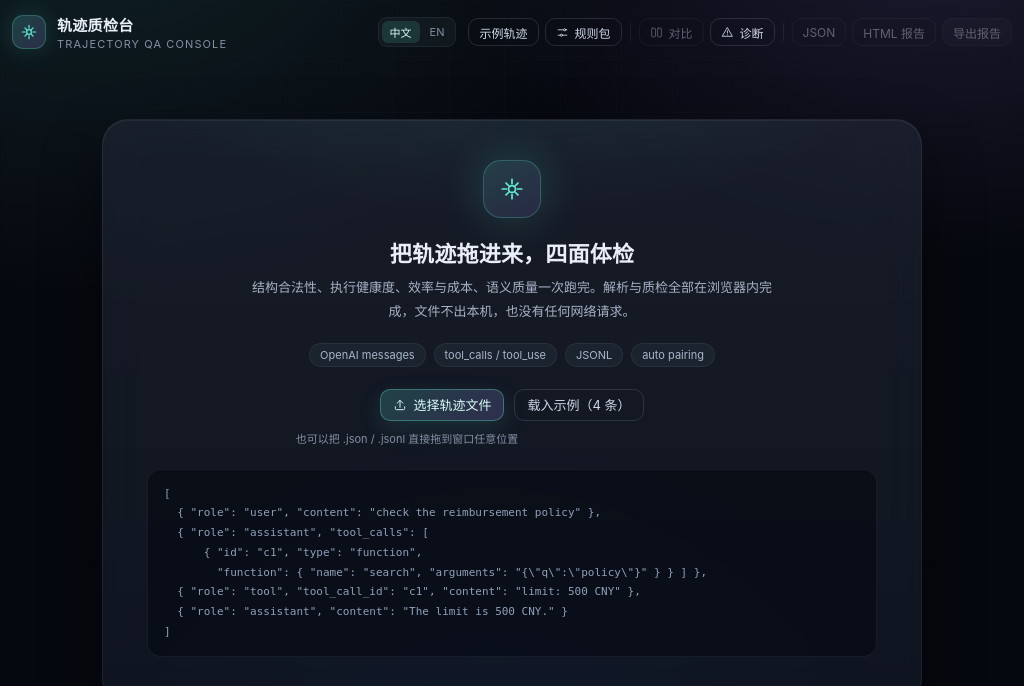
Test: App smoke › keeps compare disabled until two traces exist, then toggles the view
expect the button "对比" is disabled: met, box [638, 18, 704, 46]
Click the button "载入示例（4 条）" at (579, 405), box [514, 389, 644, 421]
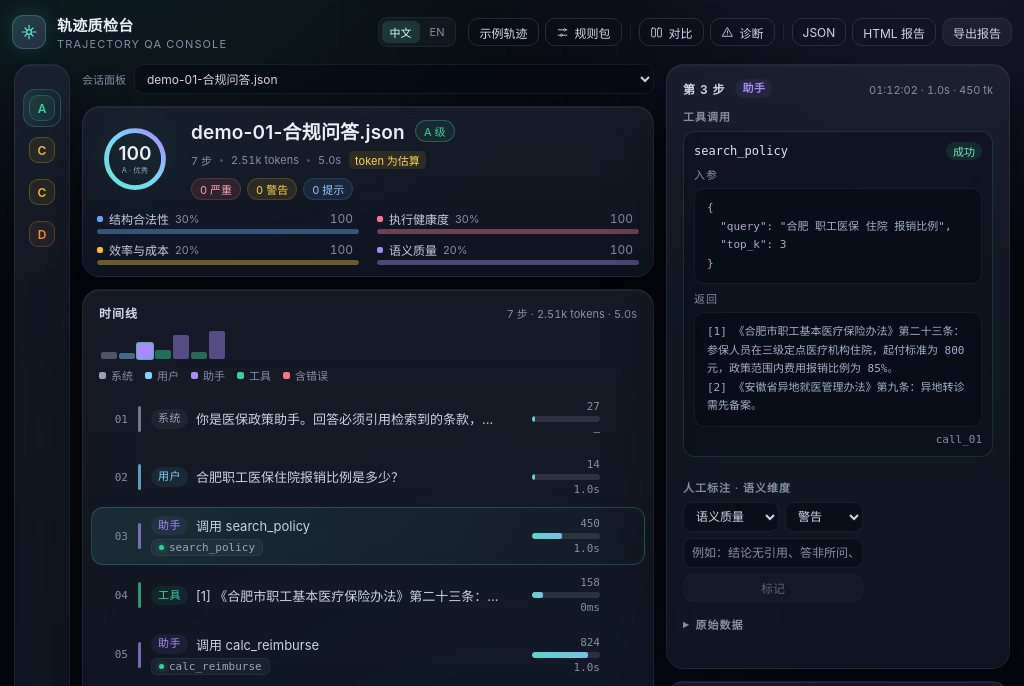
expect the text "时间线" is shown: met, box [99, 304, 138, 321]
expect the button "对比" is enabled: met
Click the button "对比" at (671, 32), box [638, 18, 704, 46]
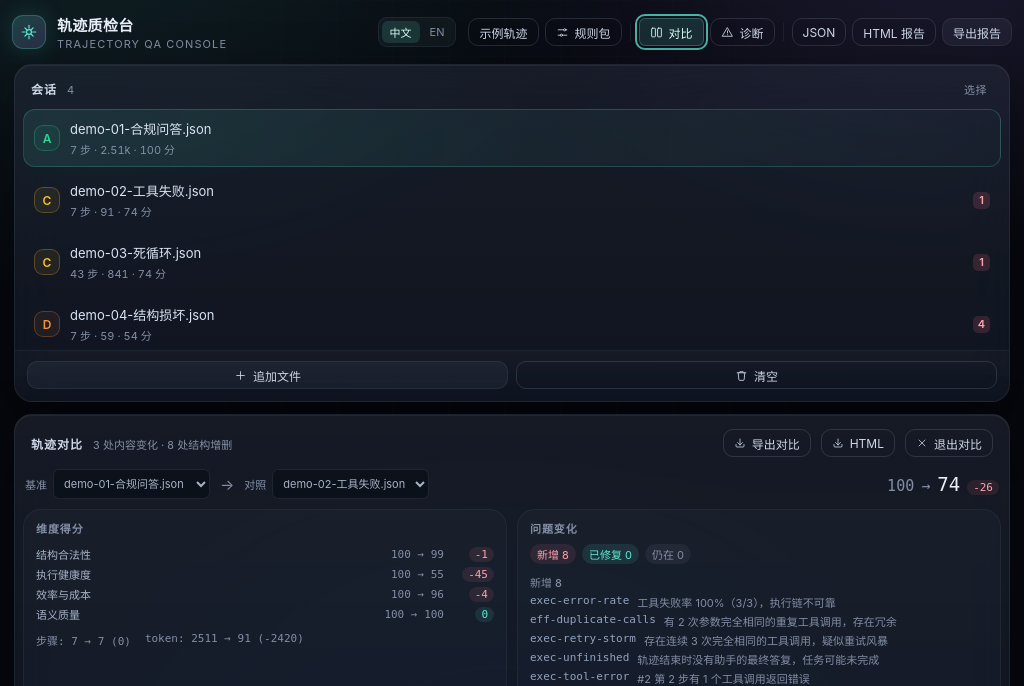
expect the text "轨迹对比" is shown: met, box [31, 435, 83, 452]
expect the button "退出对比" is shown: met
Click the button "退出对比" at (949, 443), box [905, 429, 993, 457]
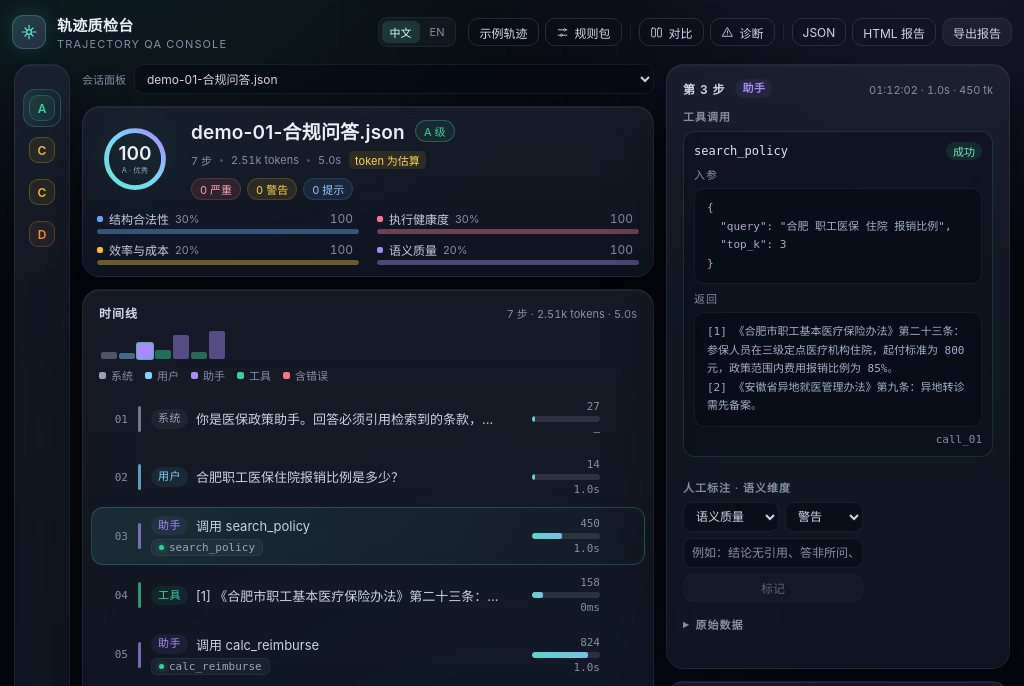
expect the text "轨迹对比" is gone: met
expect the text "时间线" is shown: met, box [99, 304, 138, 321]
